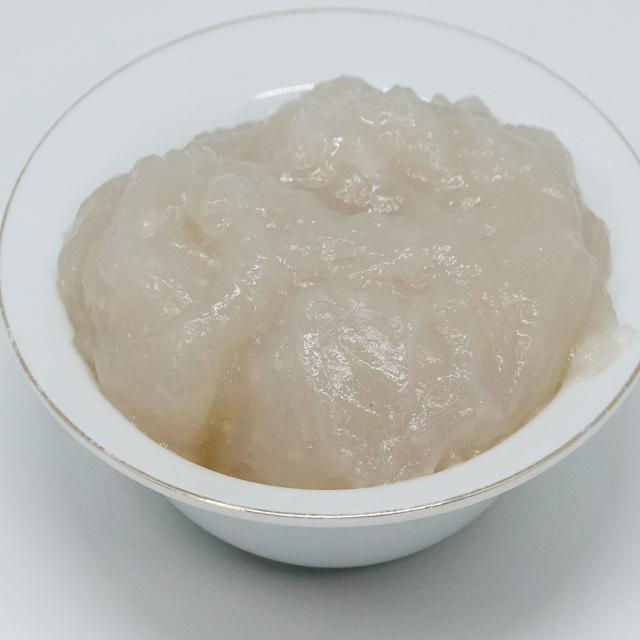Papeda: (23, 58, 630, 504)
